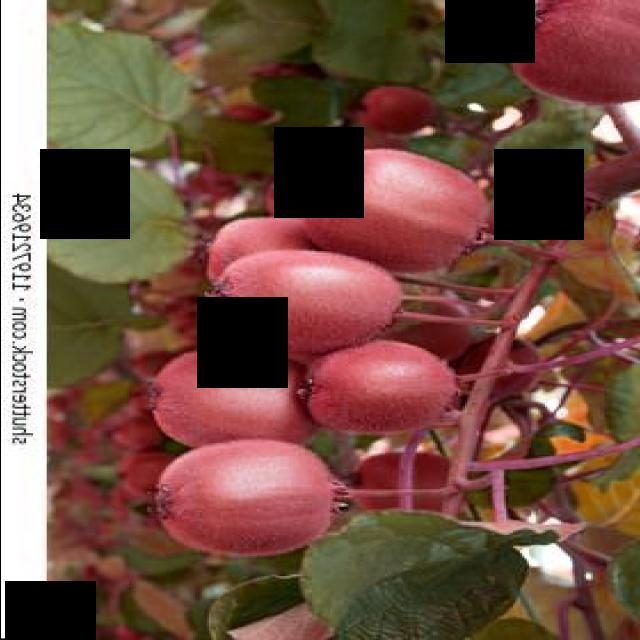kiwi: (303, 147, 493, 275), (154, 438, 339, 561), (198, 251, 408, 359), (146, 344, 326, 454), (296, 343, 465, 441), (504, 1, 640, 119), (344, 444, 472, 531), (196, 210, 328, 284), (394, 292, 486, 366), (456, 331, 543, 408), (344, 83, 444, 139), (253, 162, 319, 224), (292, 128, 365, 180)
